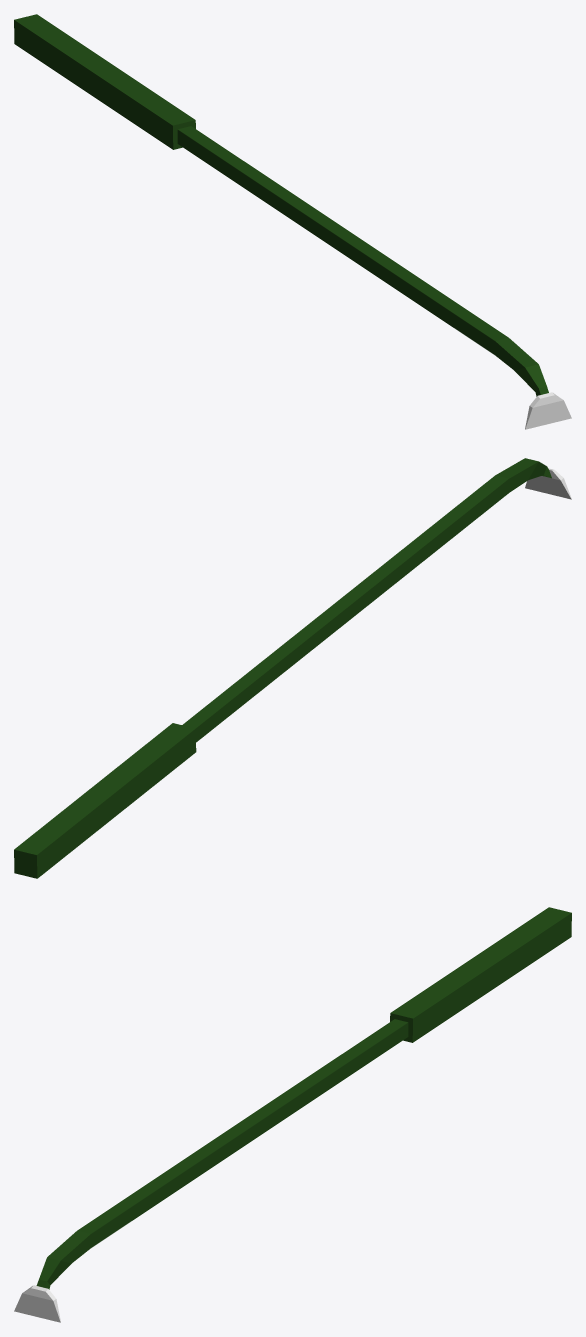
File: scraper_VR.fbx
The picture shows the model from 3 angles, top to bottom: view 1: azimuth 30°, elevation 25°; view 2: azimuth 150°, elevation 25°; view 3: azimuth 330°, elevation 25°; orthographic projection.
Visible parts, largest first — view 1: Cube.008; view 2: Cube.008; view 3: Cube.008.
Boxes of the visible parts, x1,y1,x2,y2 form: Cube.008: (14,14,571,429); Cube.008: (14,458,571,878); Cube.008: (14,907,571,1322).
Bounding box in the file's own units: 10.2 × 10.55 × 197.
